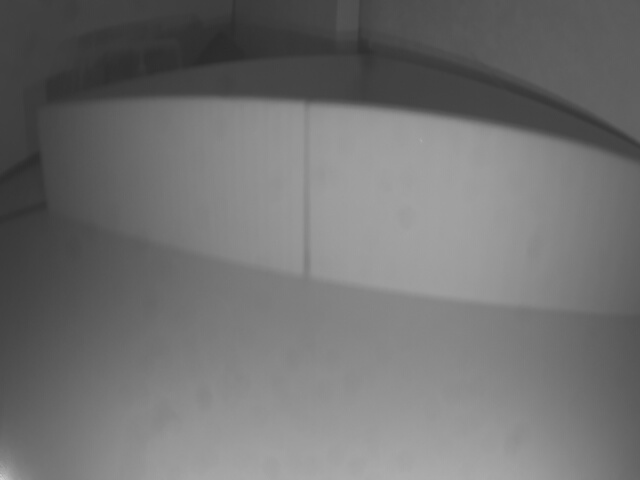Point: (36, 108, 639, 320)
